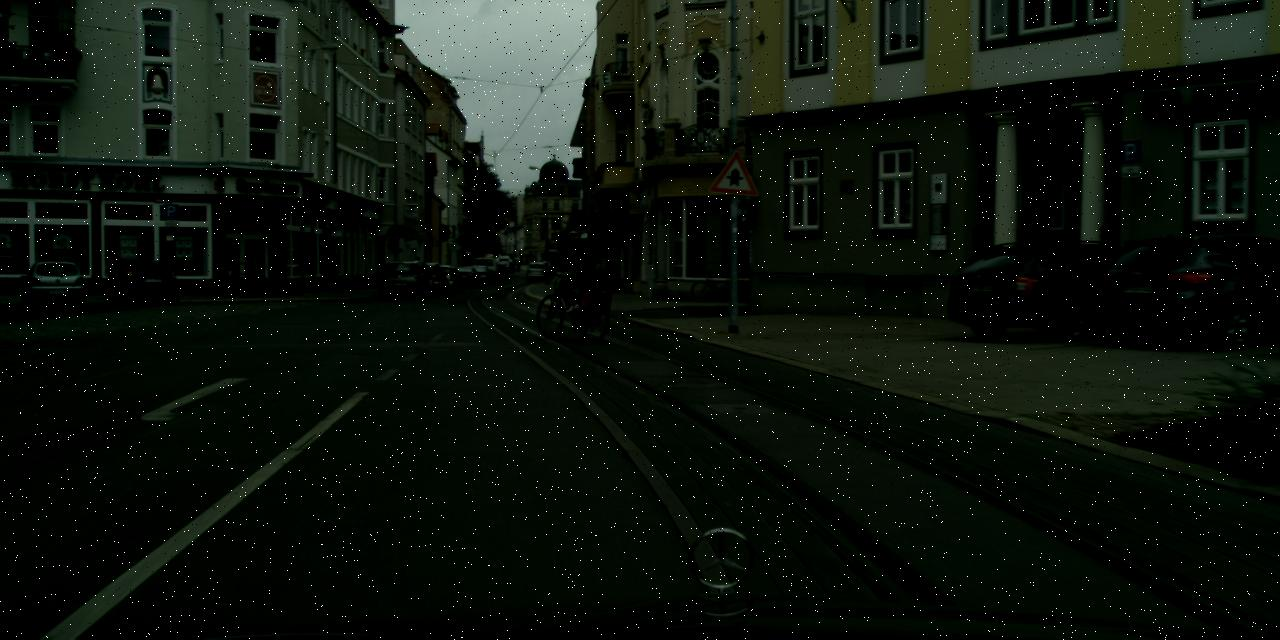ped: (558, 230, 594, 319)
